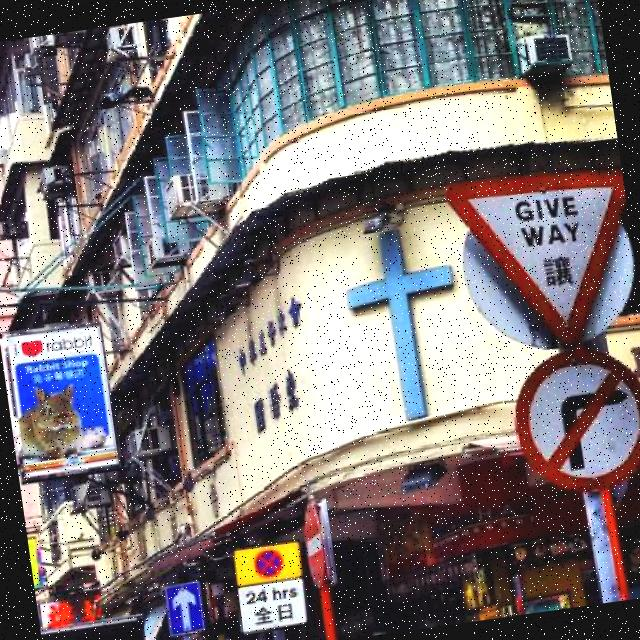Zakaz zatrzymywania sie: (248, 544, 290, 584)
